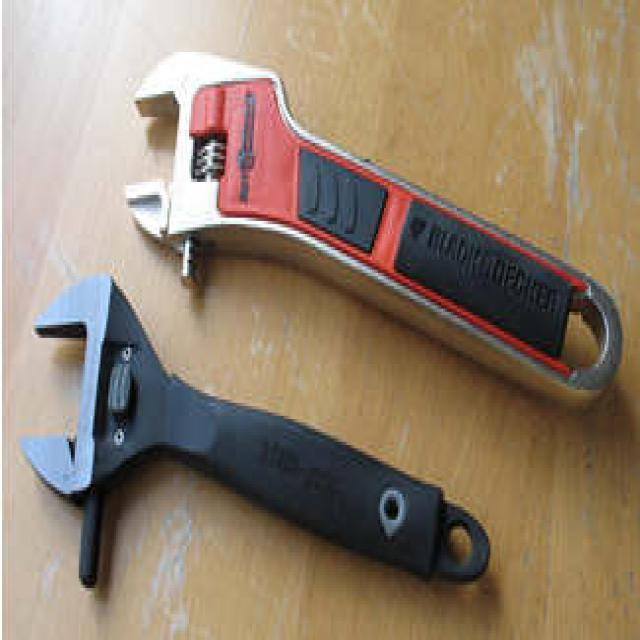wrench: (121, 43, 622, 420), (14, 271, 494, 606)
